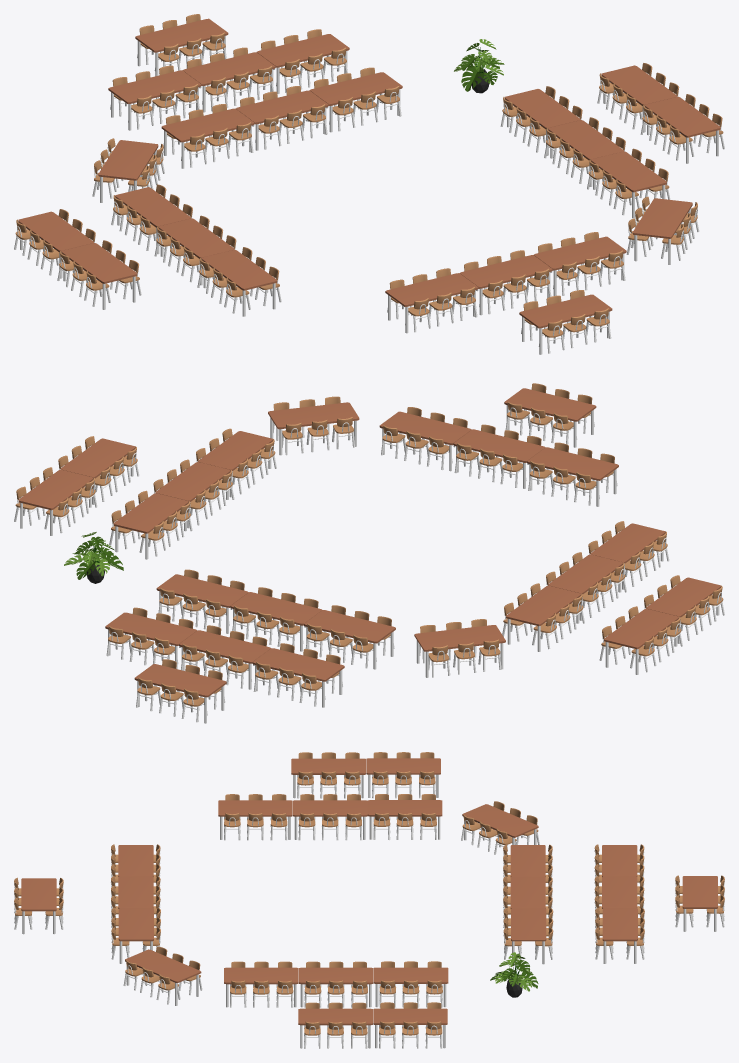
The model's file is d-roomcomp-r6-cafeteria-in.glb.
3 views of the same model, one above another, from view 1: azimuth 30°, elevation 25°; view 2: azimuth 150°, elevation 25°; view 3: azimuth 270°, elevation 25° (orthographic). The views are drawn at different scales.
Visible parts, largest first — view 1: table.049, table.042, table.039, table.045, table.056, table.050, table.058, table.048, table.044, table.043, table.041, table.040 (+12 smaller); view 2: table.060, table.061, table.039, table.048, table.049, table.045, table.042, table.057, table.052, table.055, table.059, table.041 (+12 smaller); view 3: table.061, table.055, table.052, table.051, table.059, table.054, table.050, table.053, table.058, table.056, table.057, table.060 (+12 smaller).
Boxes of the visible parts, <box> form: table.049: <box>519,290,612,354</box>; table.042: <box>161,104,254,168</box>; table.039: <box>385,268,478,333</box>; table.045: <box>108,65,201,130</box>; table.056: <box>57,240,141,309</box>; table.050: <box>197,247,281,316</box>; table.058: <box>640,94,724,163</box>; table.048: <box>135,14,228,76</box>; table.044: <box>309,67,402,132</box>; table.043: <box>235,86,328,150</box>; table.041: <box>534,232,626,295</box>; table.040: <box>460,250,552,315</box>; table.060: <box>414,619,505,677</box>; table.061: <box>268,396,359,455</box>; table.039: <box>527,442,618,506</box>; table.048: <box>134,659,226,723</box>; table.049: <box>504,383,596,447</box>; table.045: <box>252,643,344,707</box>; table.042: <box>304,605,395,669</box>; table.057: <box>599,606,682,674</box>; table.052: <box>502,583,584,651</box>; table.055: <box>109,490,192,559</box>; table.059: <box>14,467,97,535</box>; table.041: <box>379,407,471,471</box>; table.061: <box>123,946,202,1005</box>; table.055: <box>373,961,448,1007</box>; table.052: <box>367,794,442,839</box>; table.051: <box>293,794,367,840</box>; table.059: <box>373,1002,447,1048</box>; table.054: <box>299,961,373,1007</box>; table.050: <box>218,794,292,840</box>; table.053: <box>224,961,298,1007</box>; table.058: <box>298,1002,372,1048</box>; table.056: <box>291,752,365,798</box>; table.057: <box>366,752,440,798</box>; table.060: <box>461,801,539,854</box>.
Bounding box in the file's own units: 23.67 × 1.88 × 26.19.
Materials: 1 (1 with a texture image).
